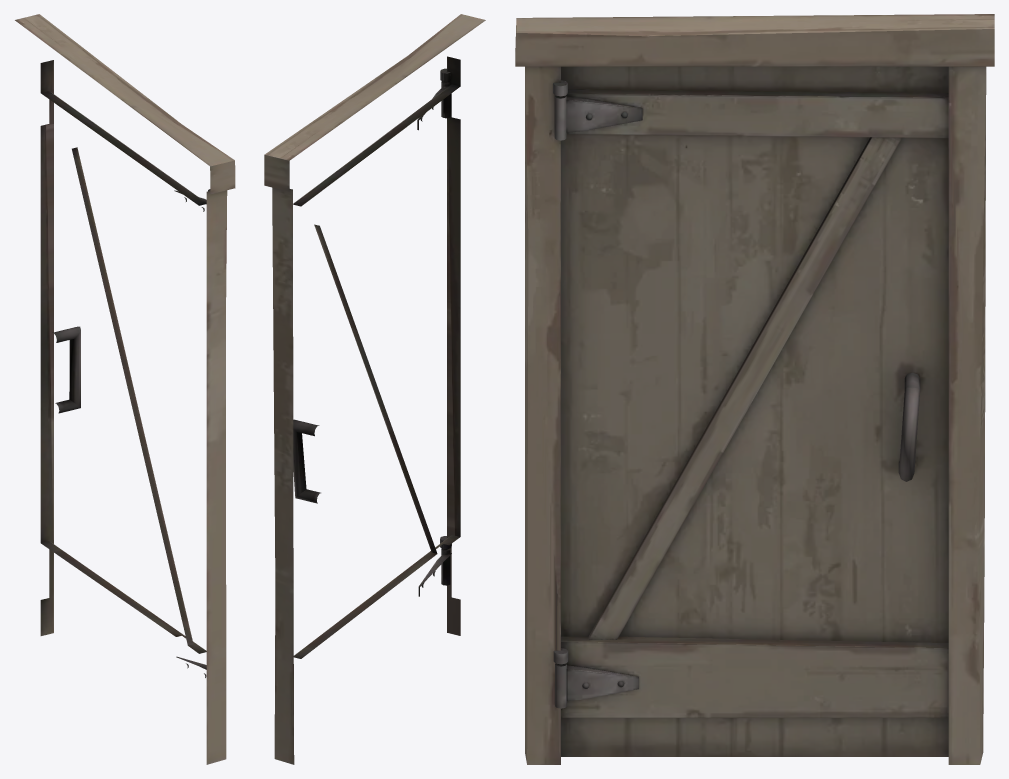
3 views of the same model, side by side, from view 1: azimuth 30°, elevation 25°; view 2: azimuth 150°, elevation 25°; view 3: azimuth 270°, elevation 25° (orthographic). The views are drawn at different scales.
Parts seen in each view (by area): view 1: body0_model0_lod0_mesh0; view 2: body0_model0_lod0_mesh0; view 3: body0_model0_lod0_mesh0.
Part boxes in pixels (box(x1,y1,x2,y2)): body0_model0_lod0_mesh0: box(15, 14, 235, 764); body0_model0_lod0_mesh0: box(264, 14, 485, 764); body0_model0_lod0_mesh0: box(515, 14, 994, 764).
Size of the model in its own units: 6.66 by 120 by 70.3.
Materials: 1 (1 with a texture image).
